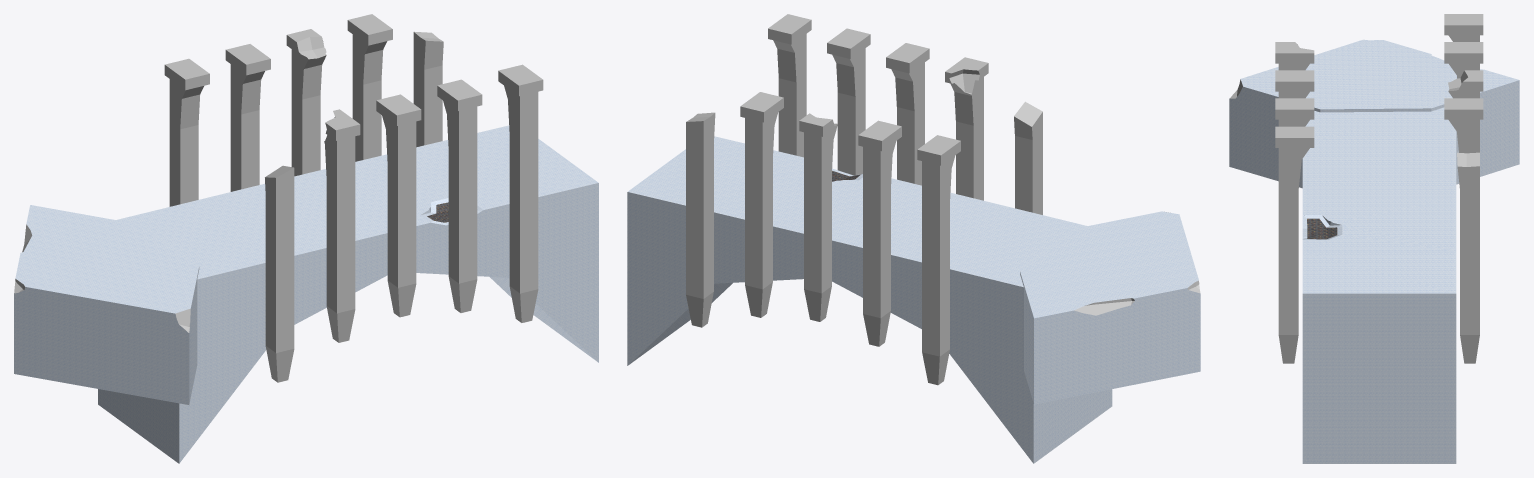
The model's file is Bridge.fbx.
3 renders of one model, left to right at view 1: azimuth 30°, elevation 25°; view 2: azimuth 150°, elevation 25°; view 3: azimuth 270°, elevation 25°, orthographic. The views are drawn at different scales.
Visible parts, largest first — view 1: BridgeArchway, Bridge, BridgeEntrance; view 2: BridgeArchway, Bridge, BridgeEntrance; view 3: Bridge, BridgeEntrance, BridgeArchway.
Boxes of the visible parts, <box> form: BridgeArchway: <box>164,14,543,382</box>; Bridge: <box>98,125,598,463</box>; BridgeEntrance: <box>14,205,199,404</box>; BridgeArchway: <box>686,14,1042,385</box>; Bridge: <box>627,136,1112,463</box>; BridgeEntrance: <box>1020,211,1200,404</box>; Bridge: <box>1302,107,1456,463</box>; BridgeEntrance: <box>1229,39,1519,188</box>; BridgeArchway: <box>1275,14,1483,363</box>.
Size of the model in its own units: 9986 by 5415 by 4853.
